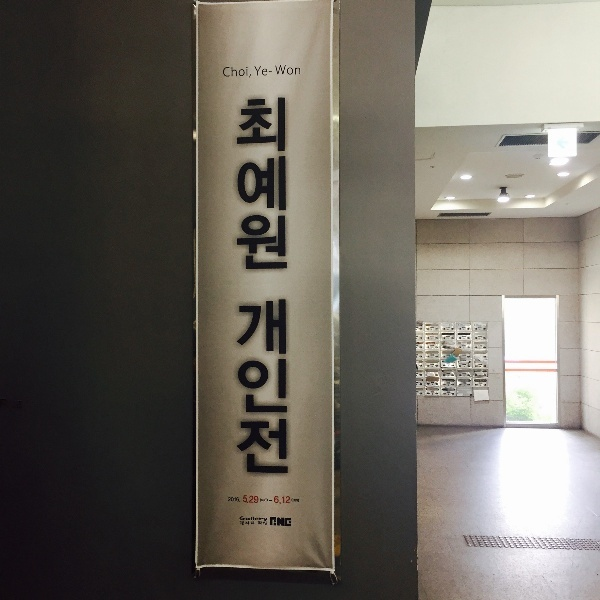text: (241, 92, 256, 477), (257, 92, 272, 477), (273, 92, 288, 477), (234, 92, 240, 477), (289, 92, 290, 477), (225, 66, 240, 79), (257, 65, 272, 77), (273, 65, 288, 77), (273, 516, 288, 528), (289, 65, 301, 77), (241, 66, 251, 79), (274, 496, 288, 504), (244, 495, 256, 504), (241, 520, 256, 527), (257, 495, 268, 504), (241, 516, 256, 522), (289, 496, 300, 504), (228, 497, 240, 503), (257, 520, 267, 527), (257, 516, 268, 522), (289, 516, 292, 528), (254, 65, 256, 77), (270, 516, 272, 528), (223, 66, 224, 79), (239, 520, 240, 527), (270, 500, 272, 502)
